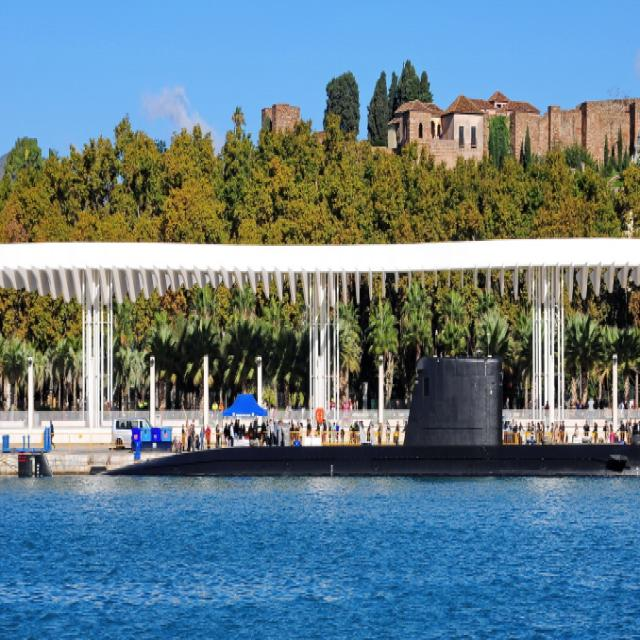submarine: (90, 336, 640, 477)
